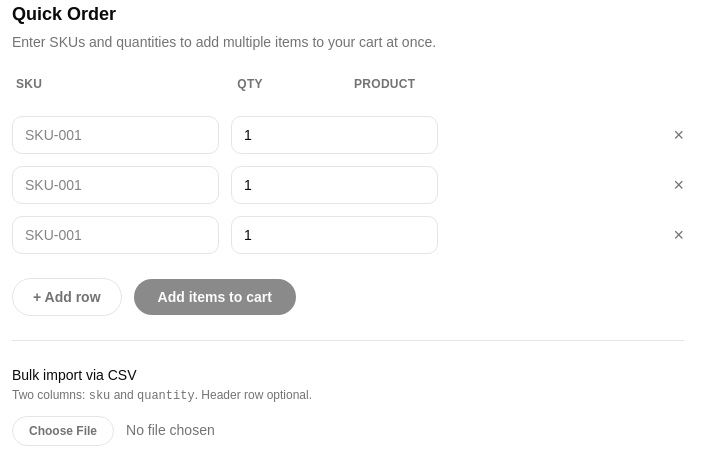
Test: QuickOrderPage › shows "SKU not found" on lookup failure
This screenshot has width=701, height=463.
Type "BAD-SKU" into the 1st field with placeholder "SKU-001" at (116,135), box [12, 116, 219, 154]
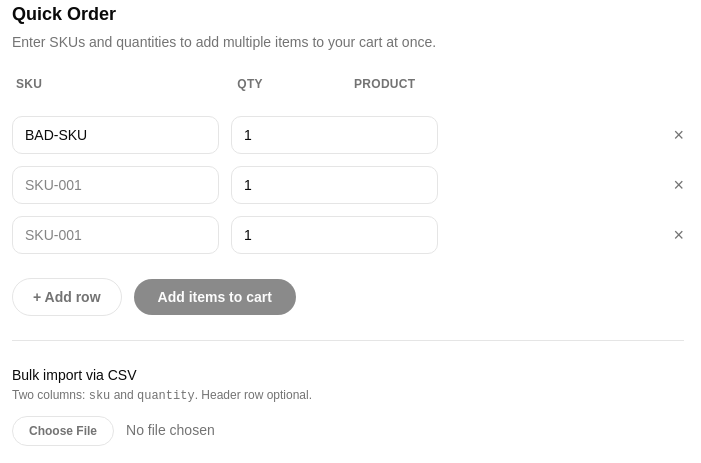
Leave the field with placeholder "SKU-001", box [12, 116, 219, 154]
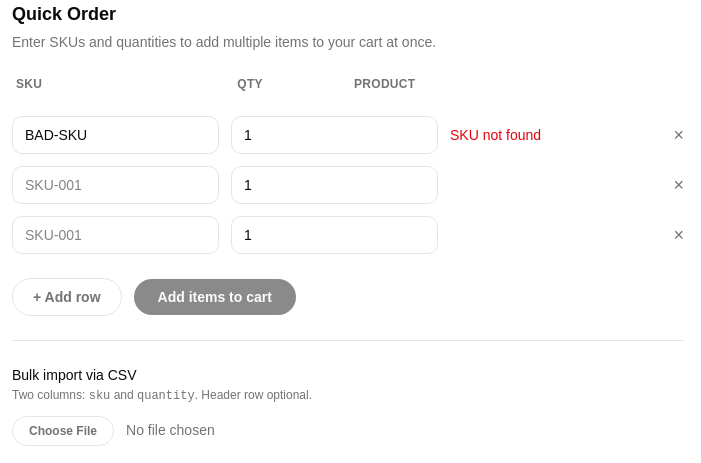
Now the text "SKU not found" is shown, box [450, 125, 541, 145]
